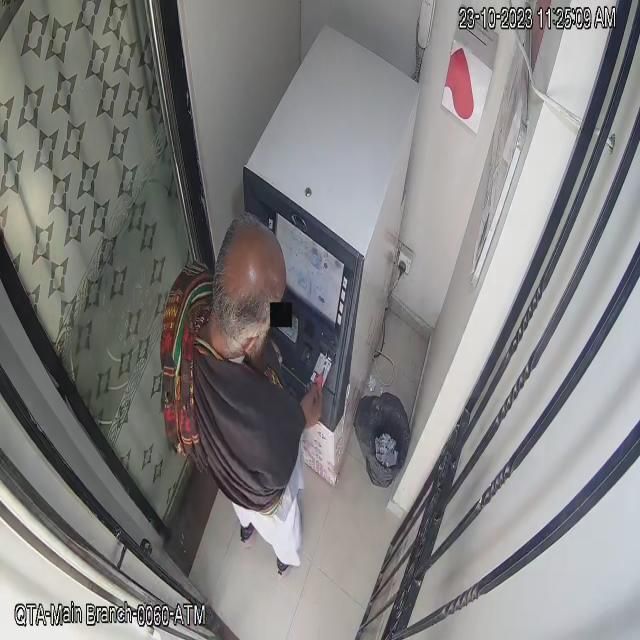atm-card: (306, 345, 335, 401)
